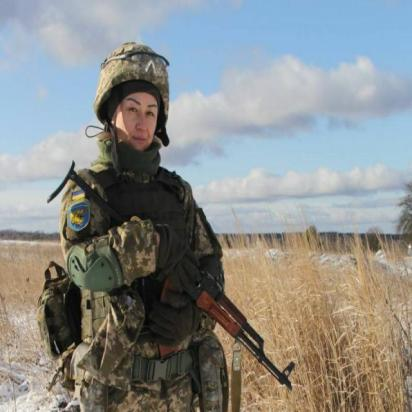Gun: (46, 160, 296, 393)
